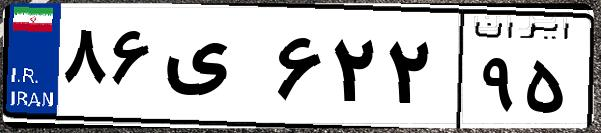2: (385, 28, 445, 110), (330, 28, 385, 110)
5: (525, 38, 570, 115)
6: (270, 28, 330, 110), (110, 28, 158, 98)
8: (57, 26, 110, 100)
9: (475, 38, 525, 113)
ی: (158, 20, 270, 120)
